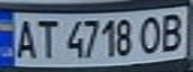1: (100, 16, 118, 57)
4: (63, 16, 84, 60)
7: (81, 16, 100, 58)
8: (115, 16, 139, 57)
A: (12, 16, 39, 60)
B: (157, 10, 190, 53)
O: (136, 13, 166, 55)
T: (33, 16, 60, 60)
